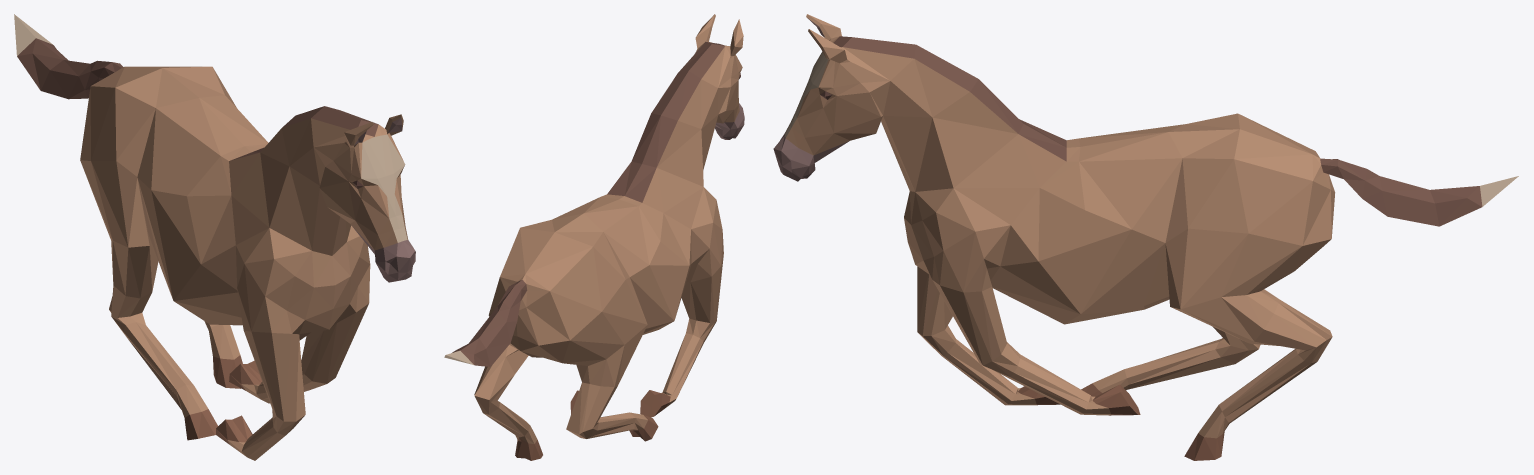
File: Horse.glb
3 views of the same model, side by side, from view 1: azimuth 30°, elevation 25°; view 2: azimuth 150°, elevation 25°; view 3: azimuth 270°, elevation 25° (orthographic). The views are drawn at different scales.
Visible parts, largest first — view 1: mesh_0; view 2: mesh_0; view 3: mesh_0.
Boxes of the visible parts, x1,y1,x2,y2 form: mesh_0: [14, 14, 415, 460]; mesh_0: [444, 14, 744, 460]; mesh_0: [773, 14, 1518, 460].
Bounding box in the file's own units: 66.24 × 169 × 277.
